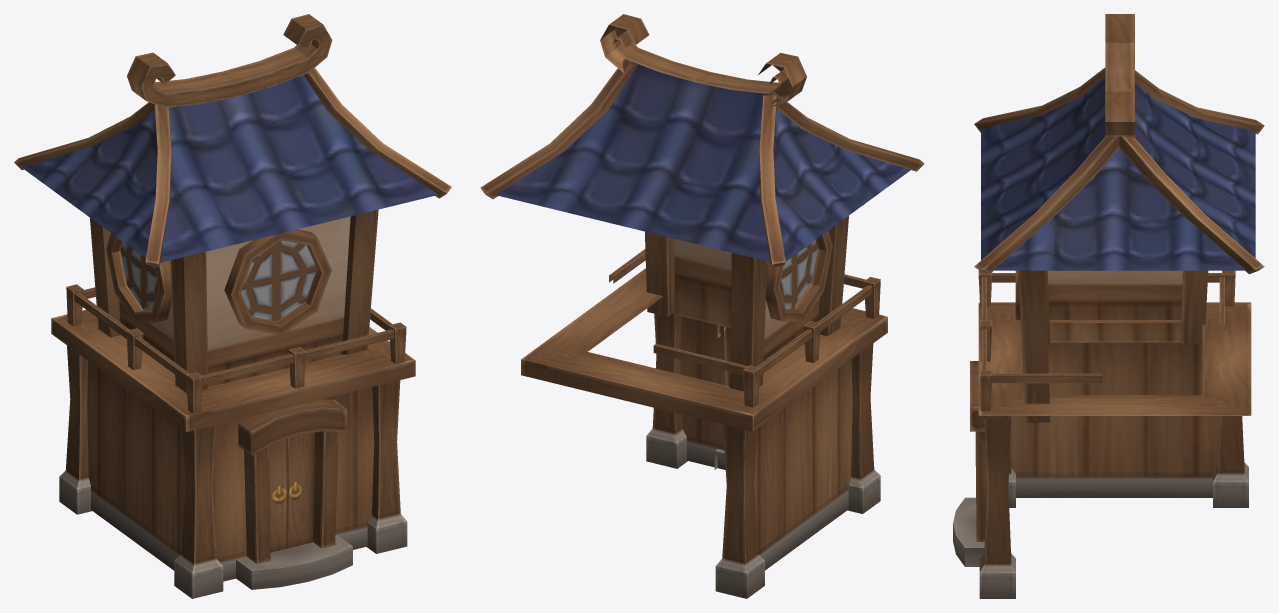
Rendered from all_mine_prop_1.FBX.
3 renders of one model, left to right at view 1: azimuth 30°, elevation 25°; view 2: azimuth 150°, elevation 25°; view 3: azimuth 270°, elevation 25°, orthographic.
Visible parts, largest first — view 1: mine_prop_3; view 2: mine_prop_3; view 3: mine_prop_3.
Boxes of the visible parts, box(x1,y1,x2,y2) form: mine_prop_3: box(14, 14, 451, 598); mine_prop_3: box(480, 14, 924, 598); mine_prop_3: box(953, 14, 1264, 598).
Bounding box in the file's own units: 105 × 157 × 91.04.
